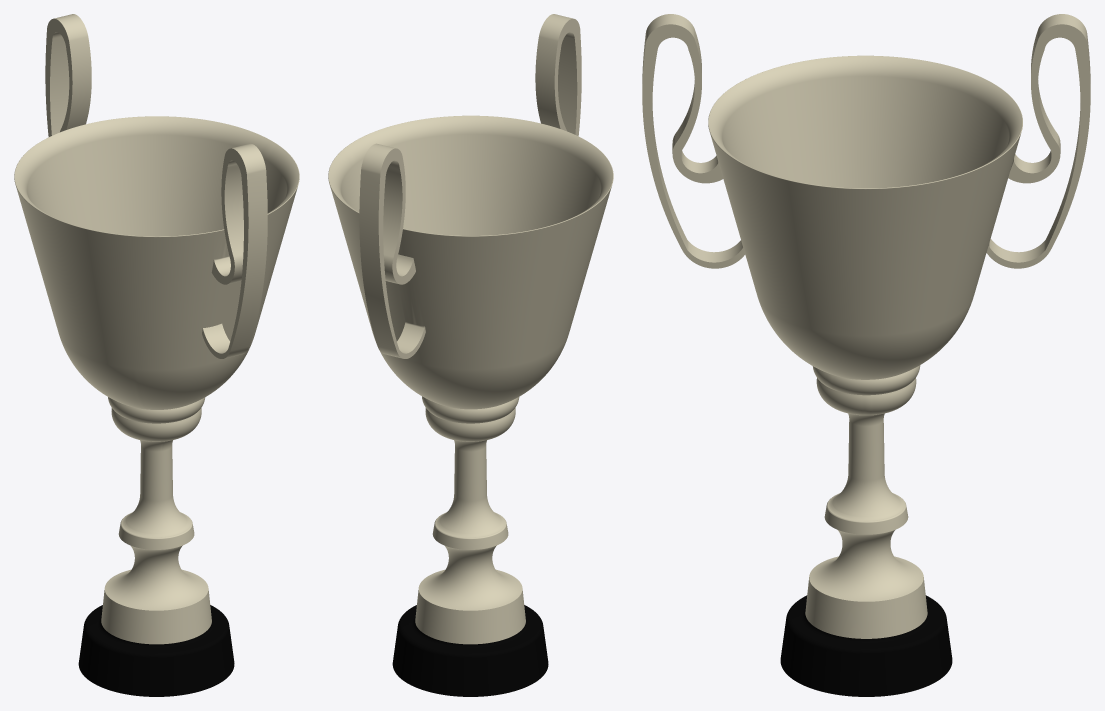
The model's file is trophy.fbx.
The picture shows the model from 3 angles, left to right: view 1: azimuth 30°, elevation 25°; view 2: azimuth 150°, elevation 25°; view 3: azimuth 270°, elevation 25°; orthographic projection. The views are drawn at different scales.
Visible parts, largest first — view 1: Object_2; view 2: Object_2; view 3: Object_2.
Boxes of the visible parts, bbox=[...] form: Object_2: bbox=[14, 14, 299, 696]; Object_2: bbox=[328, 14, 613, 696]; Object_2: bbox=[642, 14, 1090, 696].
Size of the model in its own units: 839 by 1885 by 1194.
